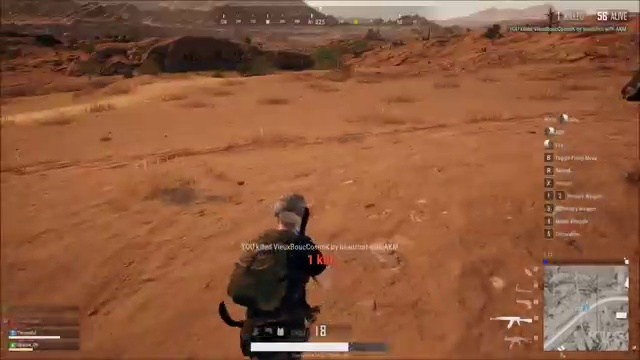Player: (210, 182, 354, 318)
